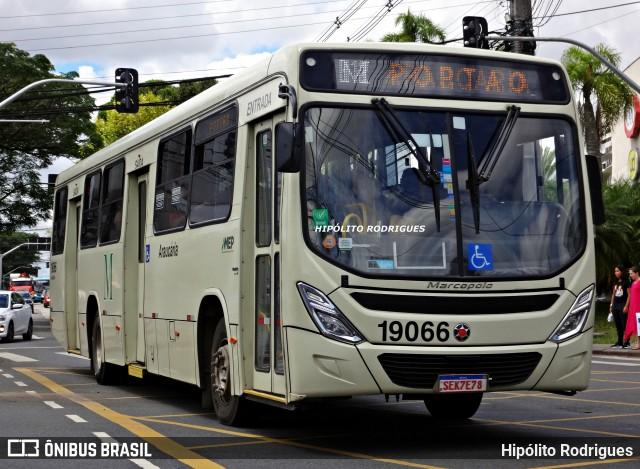PORTAO: (383, 58, 531, 101)
